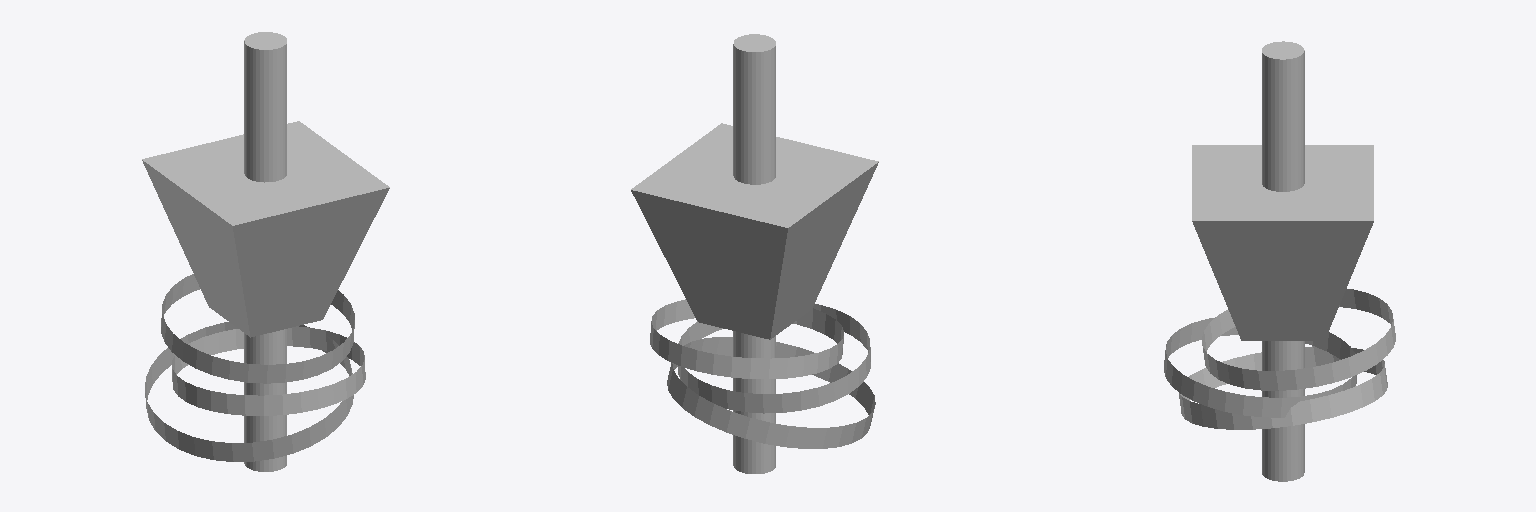
The model's file is score_board.obj.
The picture shows the model from 3 angles: view 1: azimuth 30°, elevation 25°; view 2: azimuth 150°, elevation 25°; view 3: azimuth 270°, elevation 25°; orthographic projection.
Visible parts, largest first — view 1: score_board_Cube.002; view 2: score_board_Cube.002; view 3: score_board_Cube.002.
Boxes of the visible parts, <box> form: score_board_Cube.002: <box>142,32,389,471</box>; score_board_Cube.002: <box>631,34,878,473</box>; score_board_Cube.002: <box>1164,41,1395,481</box>.
Bounding box in the file's own units: 69.72 × 148 × 73.7.